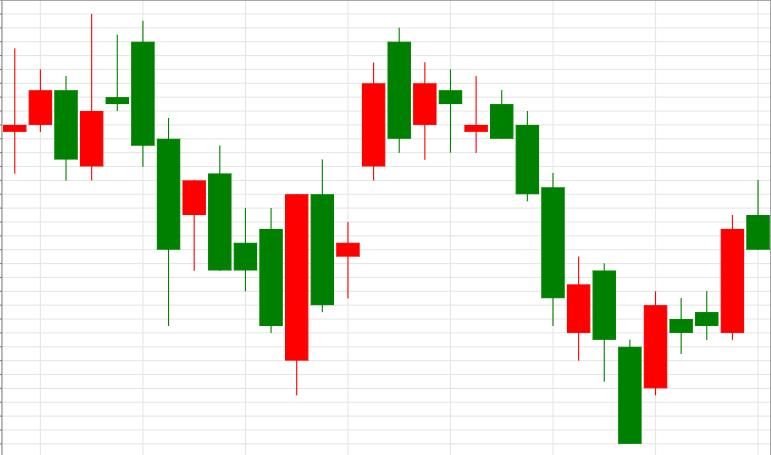bullish_engulfing_rise: (106, 20, 308, 395)
